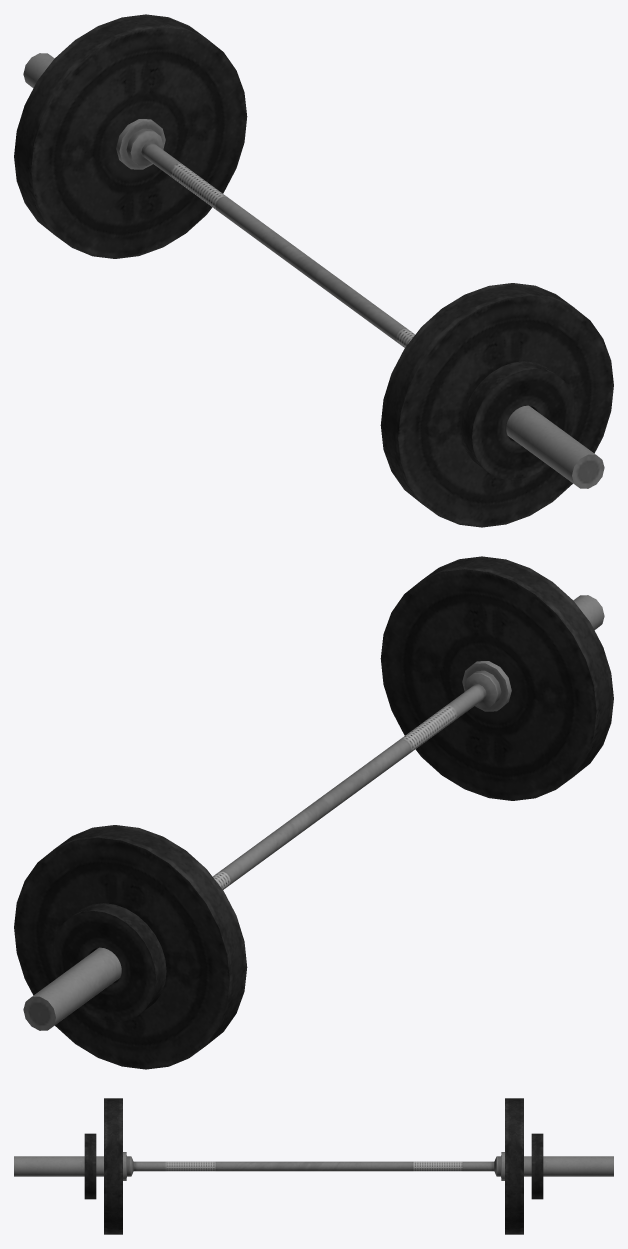
The model's file is MB_Barbell.fbx.
The picture shows the model from 3 angles, top to bottom: view 1: azimuth 30°, elevation 25°; view 2: azimuth 150°, elevation 25°; view 3: azimuth 270°, elevation 25°; orthographic projection. The views are drawn at different scales.
Visible parts, largest first — view 1: MB_Barbell_LOD0; view 2: MB_Barbell_LOD0; view 3: MB_Barbell_LOD0.
Part boxes in pixels (x1=…): MB_Barbell_LOD0: x1=14, y1=14, x2=613, y2=527; MB_Barbell_LOD0: x1=14, y1=556, x2=613, y2=1069; MB_Barbell_LOD0: x1=14, y1=1098, x2=613, y2=1234.
Size of what is drawn, in the model's own units: 44.04 by 44.04 by 194.
